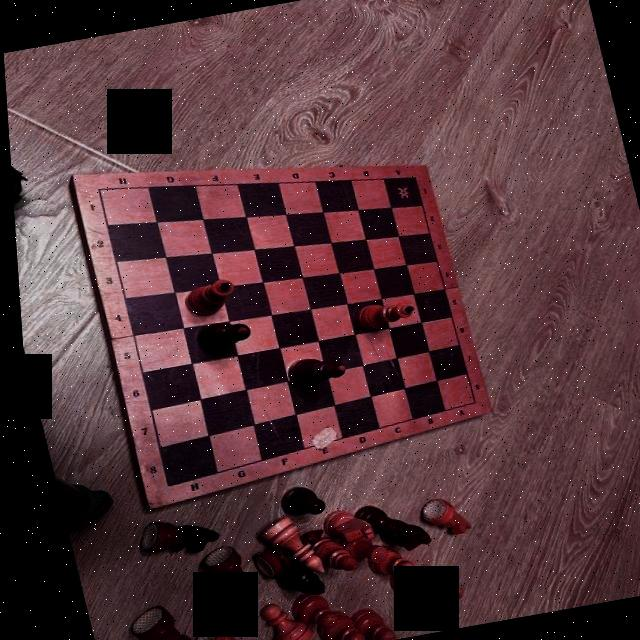chess-table-corners: (153, 476, 170, 492), (459, 395, 477, 407), (88, 183, 105, 194), (406, 172, 416, 180)
